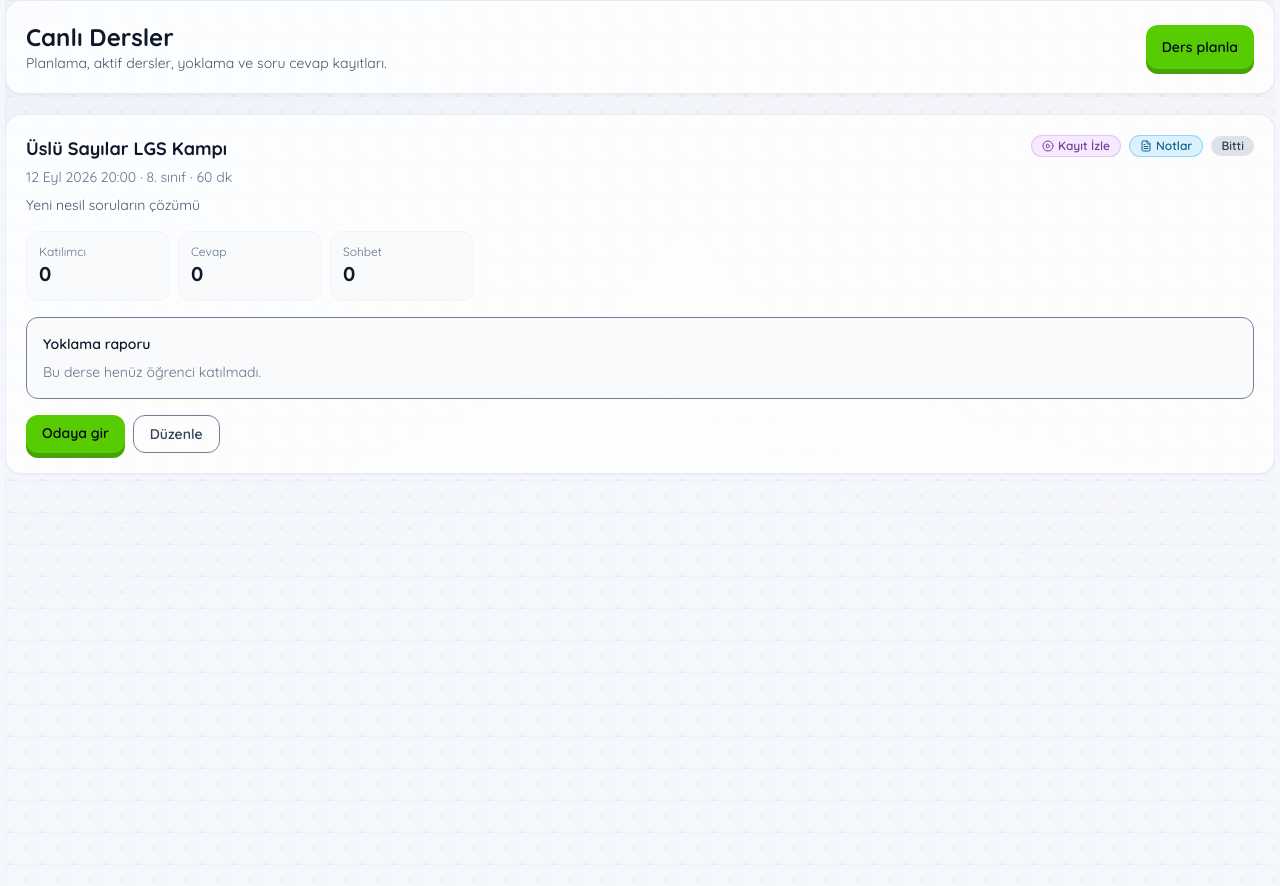
Test case: AdminLiveLessonsTab › opens edit form and reveals recording and materials inputs
Click the button "Düzenle": (176, 434) [133,415,220,453]
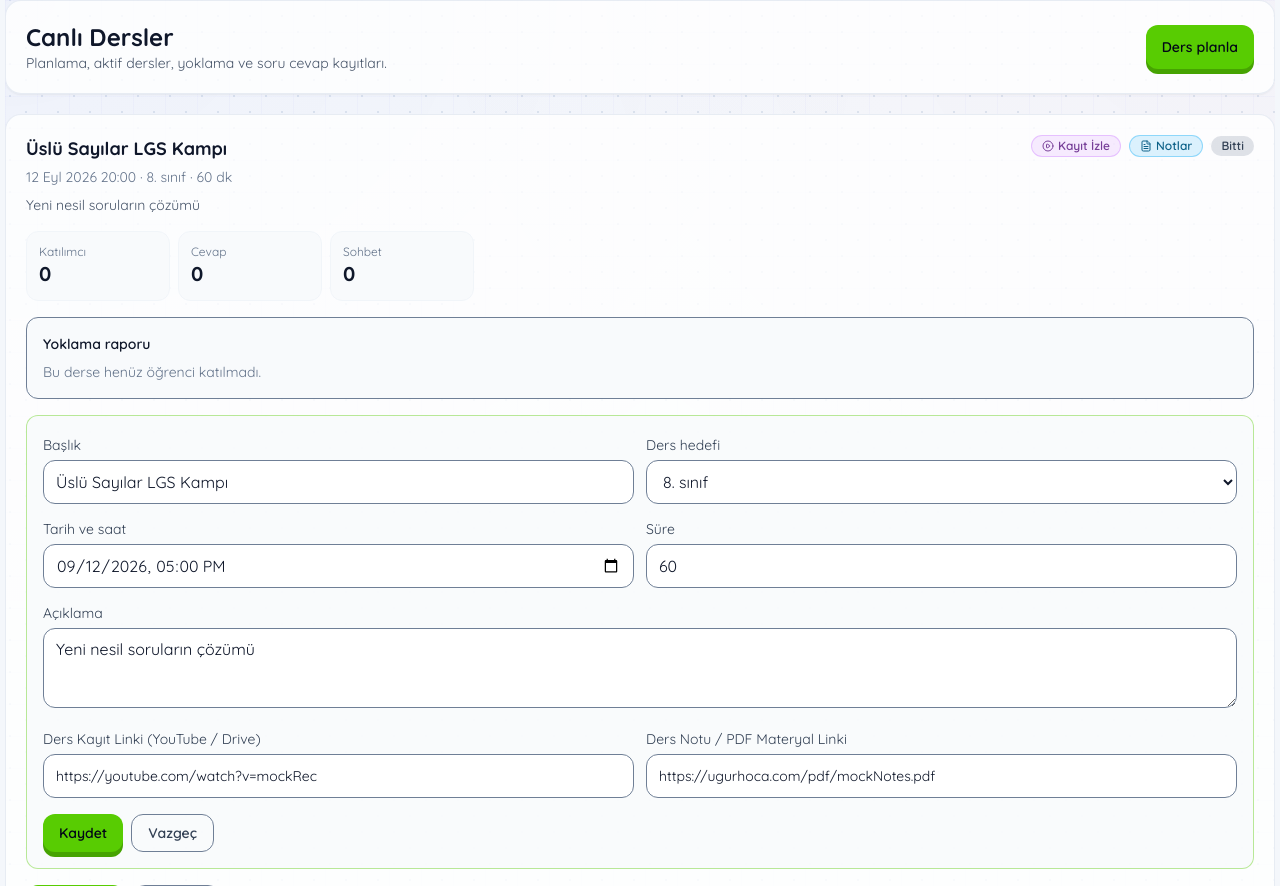
Check: the field showing "https://youtube.com/watch?v=mockRec" is shown, box [43,754,634,798]
Check: the field showing "https://ugurhoca.com/pdf/mockNotes.pdf" is shown, box [646,754,1237,798]
